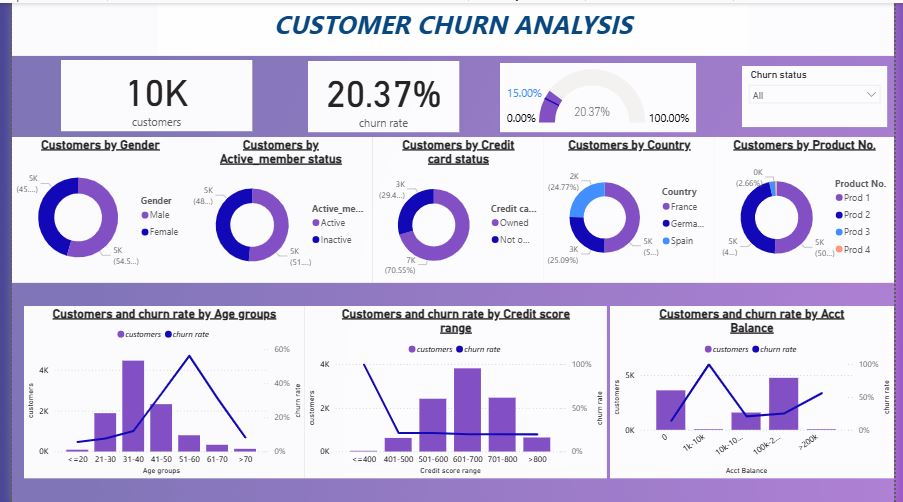

This screenshot's page, from the dashboard's own definition file:
{"tool":"powerbi","page":{"name":"Page 1","canvas":[1300,737],"ordinal":0},"visuals":[{"type":"card","fields":{"Values":["Customer Data.customers"]},"box":[225.5,85.5,281.5,104.7],"z":0},{"type":"card","fields":{"Values":["Customer Data.churn rate"]},"box":[532.1,85.5,222.6,104.7],"z":1000},{"type":"shape","box":[213.7,0,872.6,78.1],"z":2000},{"type":"textbox","box":[0,0,1300.1,78.1],"z":3000},{"type":"donutChart","title":"Customers by Gender","fields":{"Category":["Customer Data.Gender"],"Y":["Customer Data.customers"]},"box":[0,197.5,260.9,215.2],"z":3001},{"type":"donutChart","title":"Customers by Active_member status","fields":{"Category":["Customer Data.Active_member status"],"Y":["Customer Data.customers"]},"box":[260.9,197.5,271.2,215.2],"z":3002},{"type":"donutChart","title":"Customers by Credit card status","fields":{"Category":["Customer Data.Credit card status"],"Y":["Customer Data.customers"]},"box":[532.1,197.5,252.1,215.2],"z":3003},{"type":"donutChart","title":"Customers by Country","fields":{"Category":["Customer Data.Country"],"Y":["Customer Data.customers"]},"box":[784.2,197.5,252.1,215.2],"z":3004},{"type":"donutChart","title":"Customers by Product No.","fields":{"Category":["Customer Data.Product No."],"Y":["Customer Data.customers"]},"box":[1036.2,197.5,263.8,215.2],"z":3005},{"type":"lineClusteredColumnComboChart","title":"Customers and churn rate by Age groups","fields":{"Category":["Age group.Age groups"],"Y":["Customer Data.customers"],"Y2":["Customer Data.churn rate"]},"box":[17.7,446.6,414.2,253.5],"z":3006},{"type":"lineClusteredColumnComboChart","title":"Customers and churn rate by Credit score range","fields":{"Y":["Customer Data.customers"],"Y2":["Customer Data.churn rate"],"Category":["Credit Score ID.Credit score range"]},"box":[431.9,446.6,445.1,253.5],"z":3007},{"type":"lineClusteredColumnComboChart","title":"Customers and churn rate by Acct Balance","fields":{"Y":["Customer Data.customers"],"Y2":["Customer Data.churn rate"],"Category":["Acct Balance.Acct Balance"]},"box":[881.5,446.6,418.6,253.5],"z":3008},{"type":"slicer","fields":{"Values":["Customer Data.Churn status"]},"box":[1086.3,85.5,213.7,89.9],"z":3009},{"type":"gauge","fields":{"Y":["Customer Data.churn rate"],"MinValue":["Min(Customer Data.Min Churn Rate)"],"MaxValue":["Max(Customer Data.Max Churn Rate)"],"TargetValue":["Max(Customer Data.Target Churn Rate)"]},"box":[770.9,85.5,288.9,101.7],"z":3010}]}

Visuals, with their boxes in screenshot pixels (x1, y1, x2, y2), scaled from the page's 1300x737 canvas onto the 903x502 screenshot:
card - Customer Data.customers: x1=157 y1=58 x2=352 y2=130
card - Customer Data.churn rate: x1=370 y1=58 x2=524 y2=130
shape: x1=148 y1=0 x2=755 y2=53
textbox: x1=0 y1=0 x2=902 y2=53
"Customers by Gender" donutChart: x1=0 y1=135 x2=181 y2=281
"Customers by Active_member status" donutChart: x1=181 y1=135 x2=370 y2=281
"Customers by Credit card status" donutChart: x1=370 y1=135 x2=545 y2=281
"Customers by Country" donutChart: x1=545 y1=135 x2=720 y2=281
"Customers by Product No." donutChart: x1=720 y1=135 x2=902 y2=281
"Customers and churn rate by Age groups" lineClusteredColumnComboChart: x1=12 y1=304 x2=300 y2=477
"Customers and churn rate by Credit score range" lineClusteredColumnComboChart: x1=300 y1=304 x2=609 y2=477
"Customers and churn rate by Acct Balance" lineClusteredColumnComboChart: x1=612 y1=304 x2=902 y2=477
slicer - Customer Data.Churn status: x1=755 y1=58 x2=902 y2=119
gauge - Customer Data.churn rate x Min(Customer Data.Min Churn Rate): x1=535 y1=58 x2=736 y2=128
